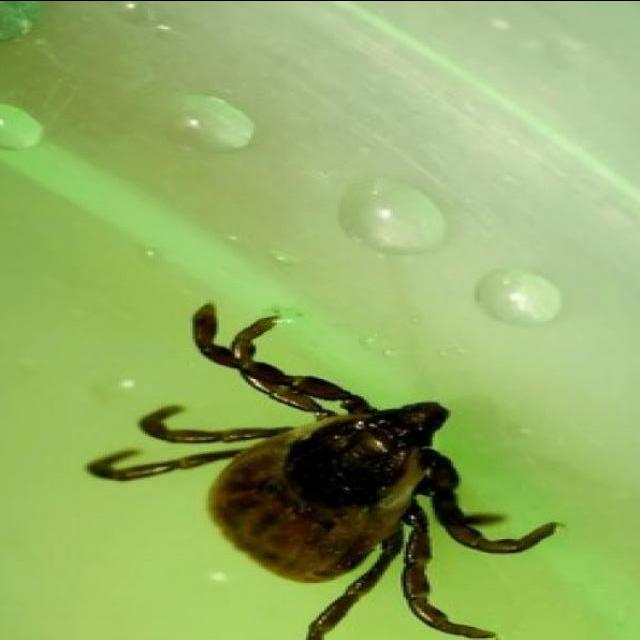Rhipicephalus Sanguineus-F: (85, 303, 561, 640)
